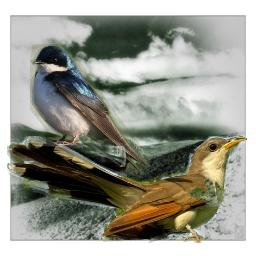Cuckoo: (7, 136, 247, 243)
Swallow: (30, 44, 150, 180)
